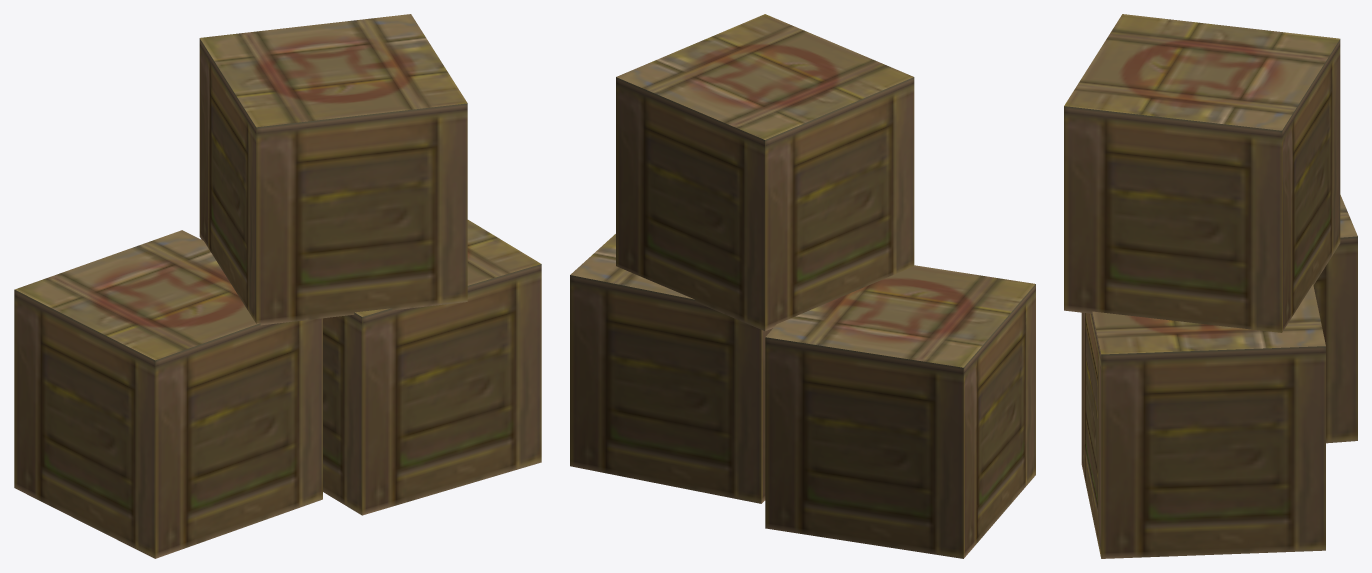
File: ZC_muxiangzu01.FBX
3 renders of one model, left to right at view 1: azimuth 30°, elevation 25°; view 2: azimuth 150°, elevation 25°; view 3: azimuth 270°, elevation 25°, orthographic. The views are drawn at different scales.
Parts seen in each view (by area): view 1: ZC_muxiangzu01_001; view 2: ZC_muxiangzu01_001; view 3: ZC_muxiangzu01_001.
Boxes of the visible parts, <box> form: ZC_muxiangzu01_001: <box>14,14,541,558</box>; ZC_muxiangzu01_001: <box>570,14,1035,558</box>; ZC_muxiangzu01_001: <box>1064,14,1357,558</box>.
Bounding box in the file's own units: 325 × 290 × 190.
